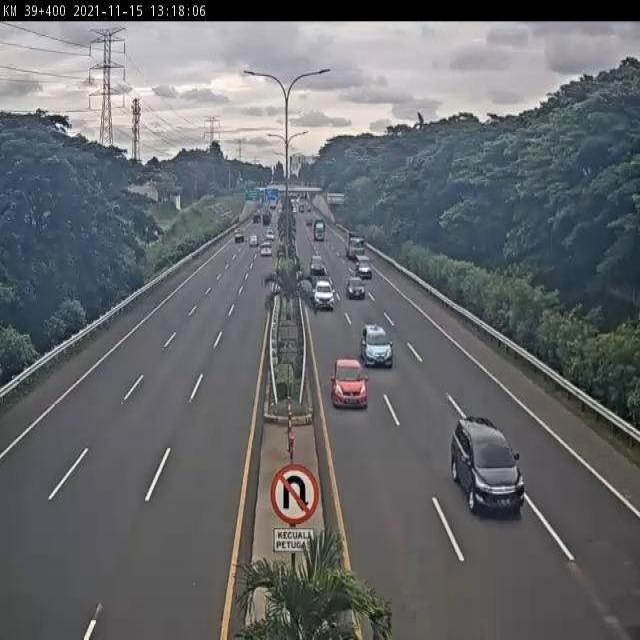Car: (450, 414, 526, 515), (330, 360, 369, 410), (361, 325, 393, 368), (312, 282, 336, 311), (345, 278, 365, 300), (311, 254, 326, 275)
Truck: (345, 229, 365, 261), (312, 216, 326, 241)
